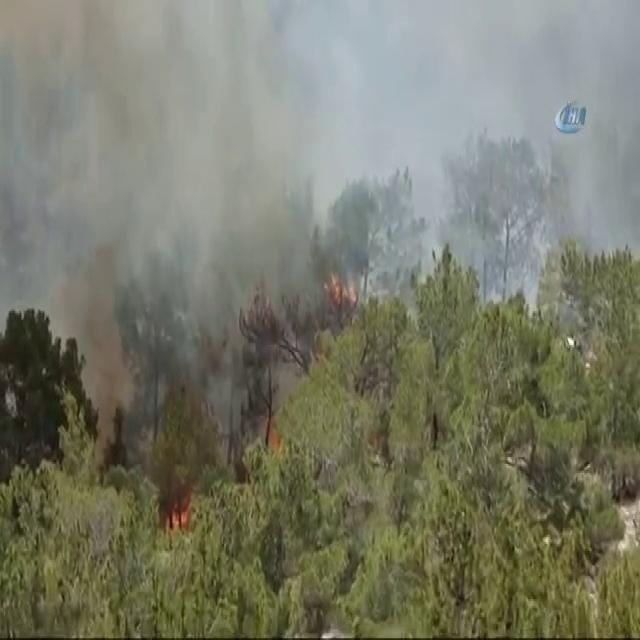Fire: (328, 269, 358, 308), (166, 492, 194, 528), (261, 422, 286, 449)
Smoke: (0, 0, 264, 251)
